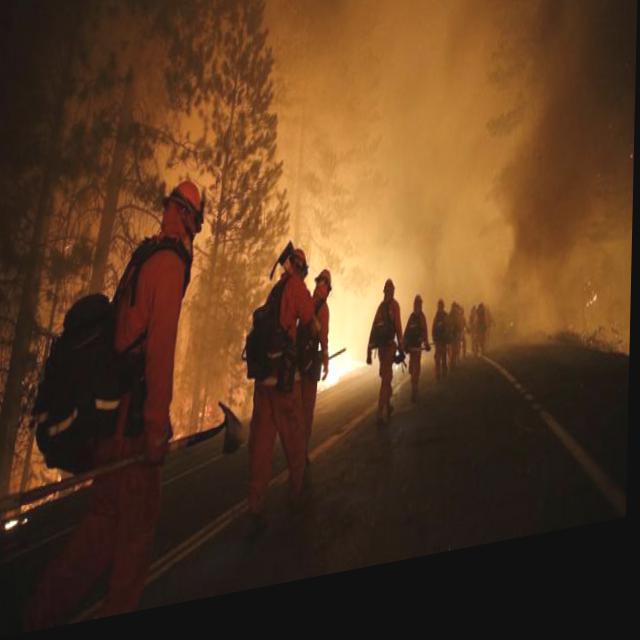Fire: (293, 235, 370, 411)
